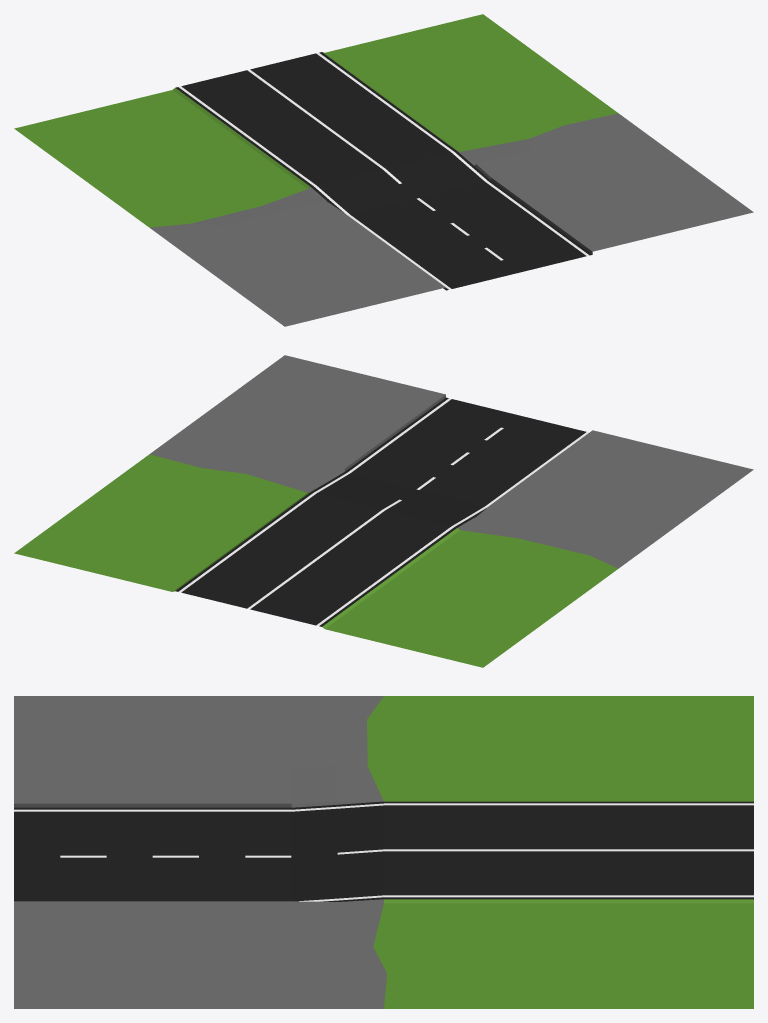
Rendered from street_TRANS_cityTOland.fbx.
3 views of the same model, one above another, from view 1: azimuth 30°, elevation 25°; view 2: azimuth 150°, elevation 25°; view 3: azimuth 270°, elevation 25° (orthographic). The views are drawn at different scales.
Parts seen in each view (by area): view 1: street_TRANS_cityTOland; view 2: street_TRANS_cityTOland; view 3: street_TRANS_cityTOland.
Boxes of the visible parts, <box> form: street_TRANS_cityTOland: <box>14,14,753,326</box>; street_TRANS_cityTOland: <box>14,355,753,667</box>; street_TRANS_cityTOland: <box>14,696,753,1008</box>.
Size of the model in its own units: 3200 by 30 by 3200.
